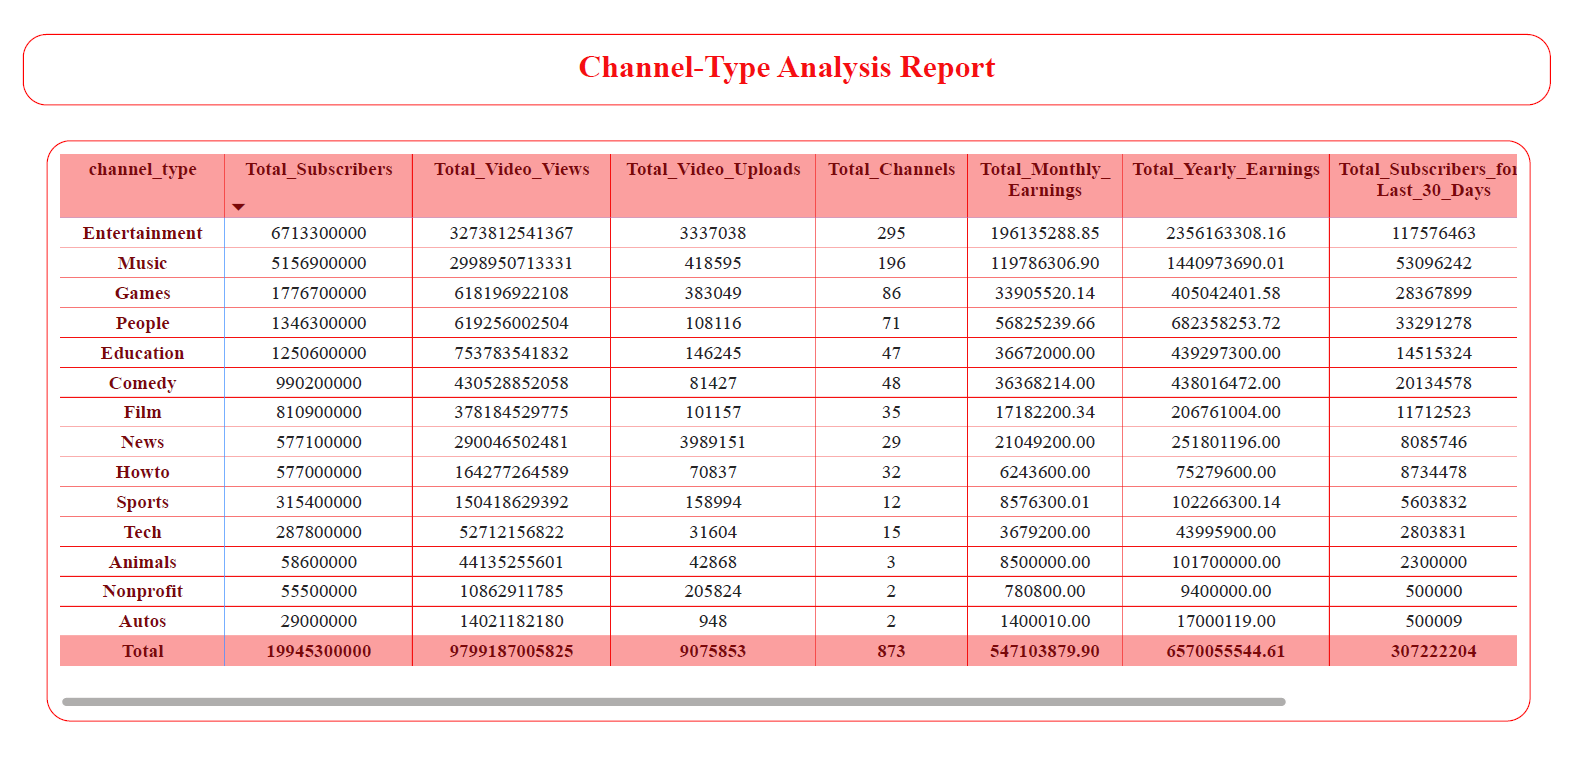

The dashboard page shown, as its layout file describes it:
{"tool":"powerbi","page":{"name":"Channel_Report","canvas":[1280,720],"ordinal":2},"visuals":[{"type":"textbox","box":[0,26.9,1280.3,59.9],"z":0},{"type":"pivotTable","fields":{"Rows":["YouTube_Data.channel_type"],"Values":["Measure.Total_Subscribers","Measure.Total_Video_Views","Measure.Total_Video_Uploads","Measure.Total_Channels","Measure.Total_Monthly_Earnings","Measure.Total_Yearly_Earnings","Measure.Total_Subscribers_for_Last_30_Days","Measure.Total_Video_Views_for_the_Last_30_Days"]},"box":[19.6,116.2,1243.6,486.7],"z":8003}]}

Visuals, with their boxes on the page's 1280x720 design canvas (x1, y1, x2, y2). These are canvas units, not pixel positions in the 1576x774 screenshot, which may show the page scaled, cropped or inside an application window:
textbox: region(0, 27, 1280, 87)
pivotTable - YouTube_Data.channel_type x Measure.Total_Subscribers: region(20, 116, 1263, 603)
